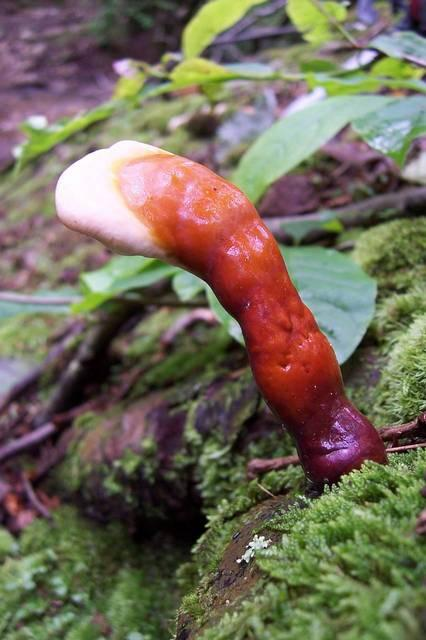Non-edible Mushroom: (53, 137, 389, 496)
